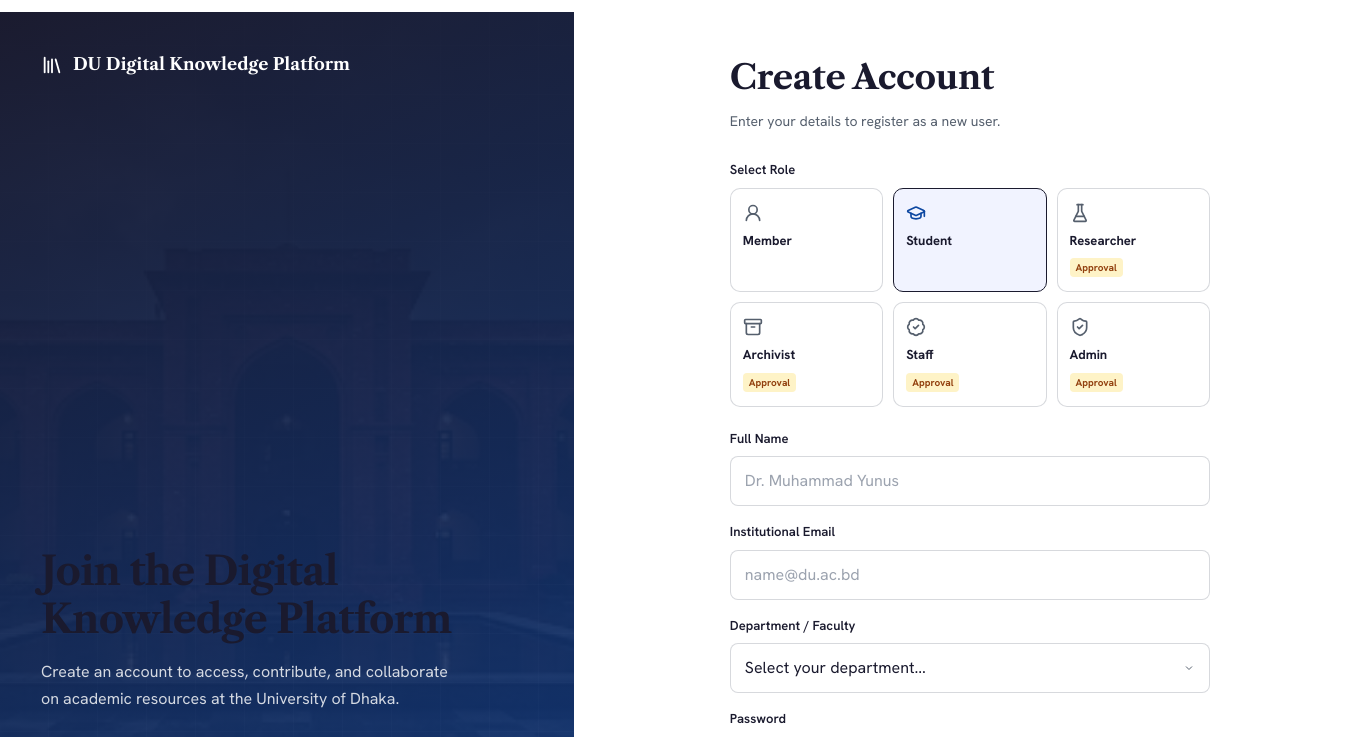
it: RegisterPage › blocks submission and shows an error when Terms of Service is not agreed to
In the field with placeholder "Dr. Muhammad Yunus": (970, 481) x1=730 y1=456 x2=1210 y2=506, type "Jane Doe"
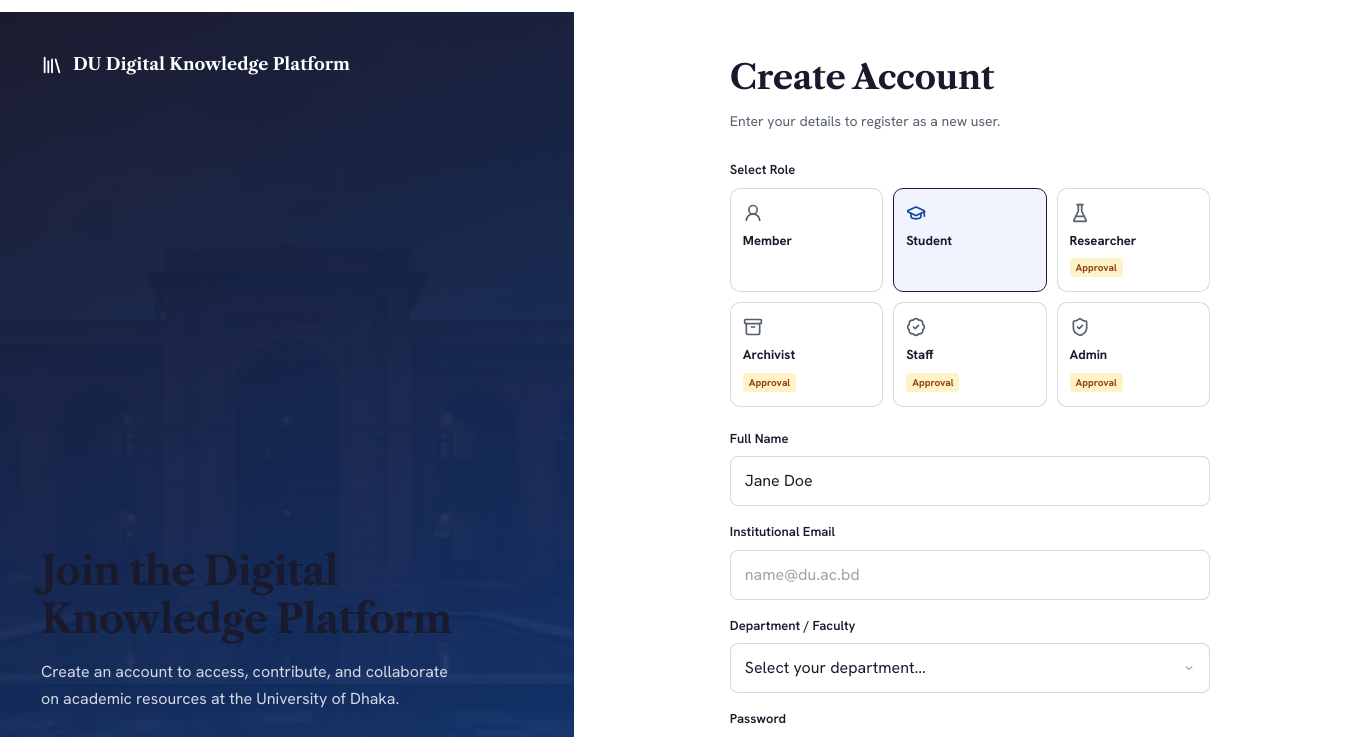
In the field with placeholder "name@du.ac.bd": (970, 574) x1=730 y1=550 x2=1210 y2=600, type "jane@example.com"
(page scrolled)
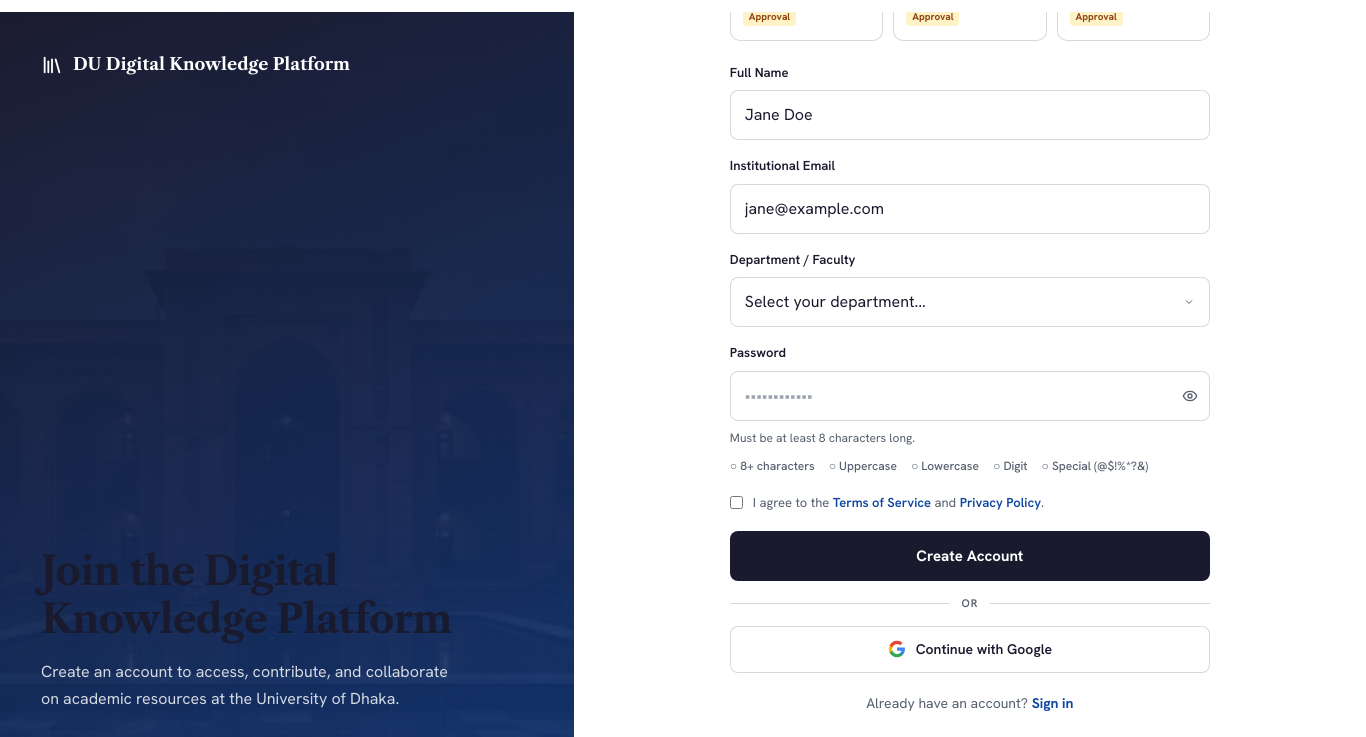
In the password field with placeholder "••••••••••••": (970, 396) x1=730 y1=370 x2=1210 y2=420, type "Abcdef1$"
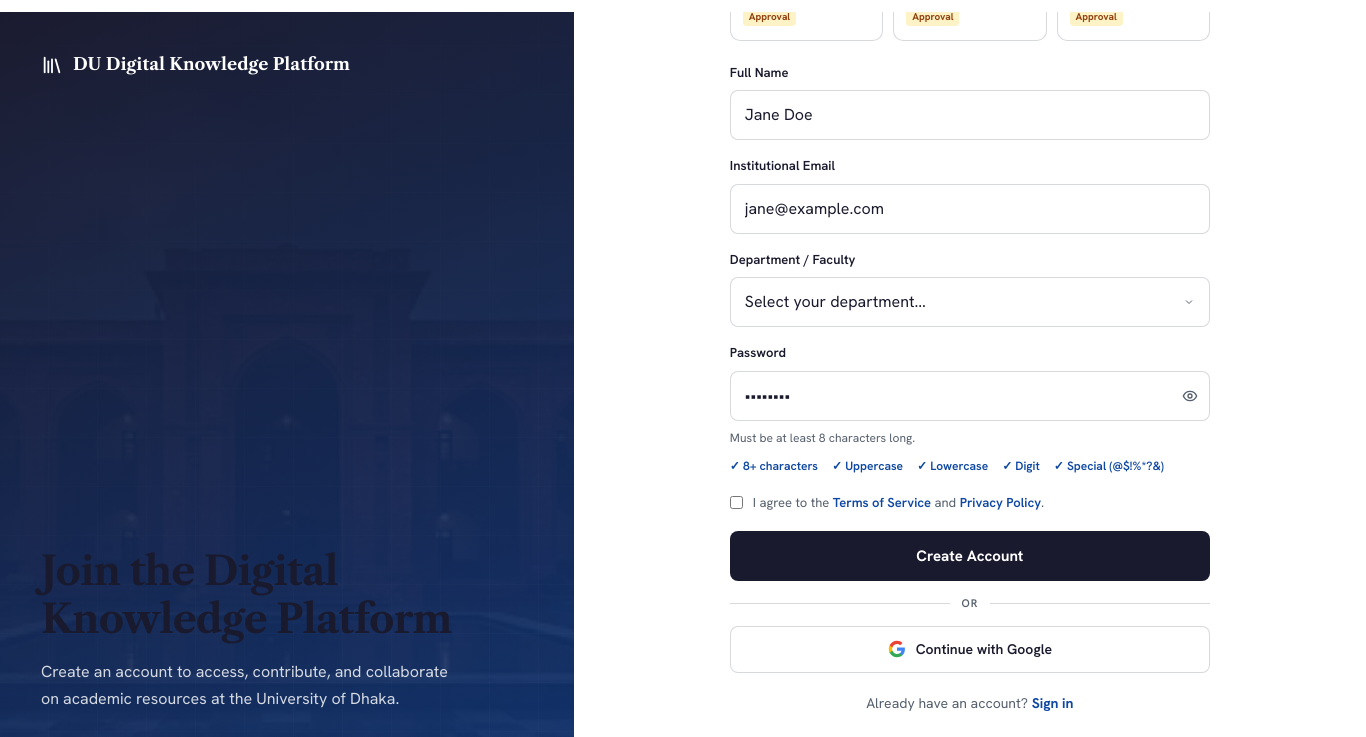
Click the button "Create Account": (970, 556) x1=730 y1=531 x2=1210 y2=581
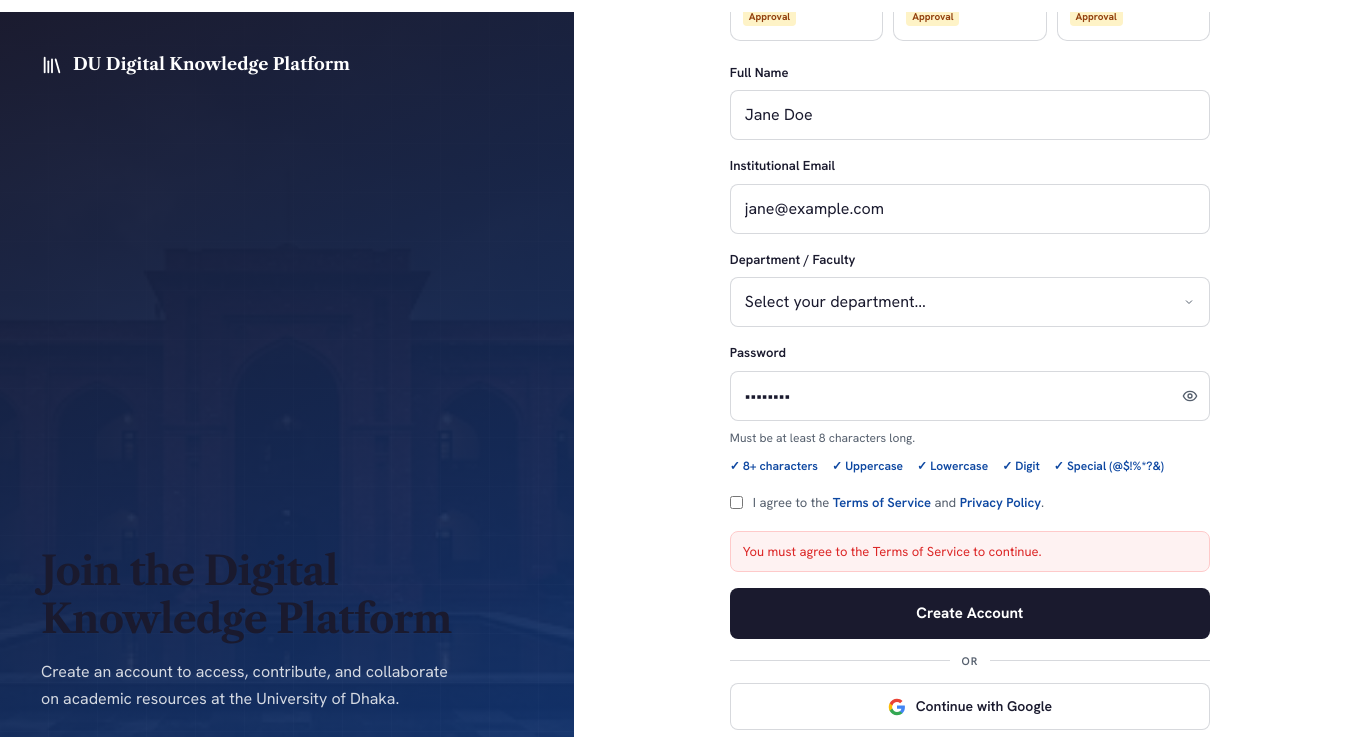
expect the text "You must agree to the Terms of Service to continue." is shown: met, box x1=730 y1=531 x2=1210 y2=572
